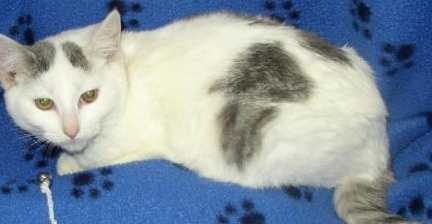Cat: (8, 10, 388, 199)
